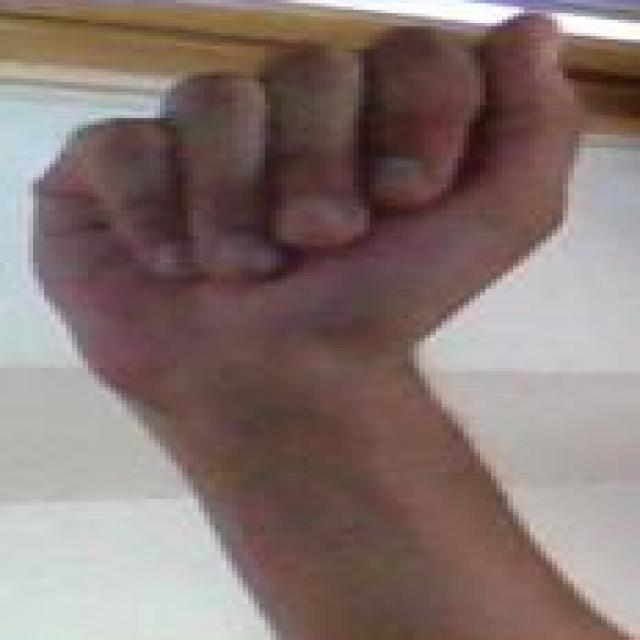A: (3, 10, 639, 373)
